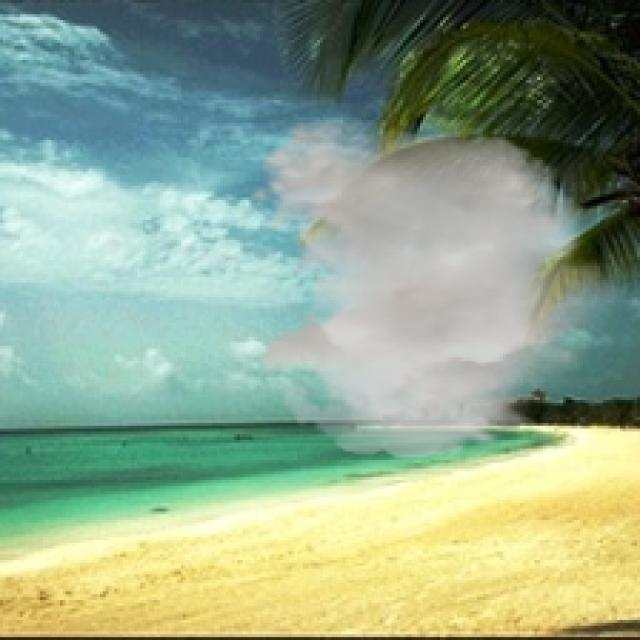smoke: (246, 117, 634, 460)
